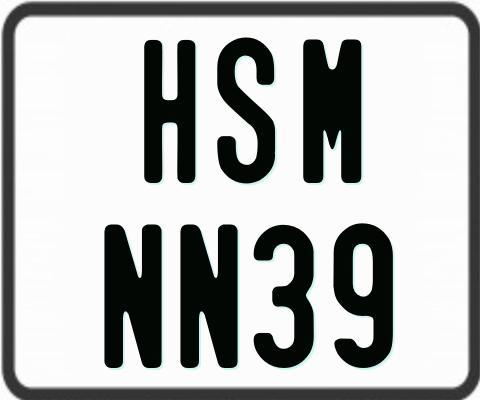3: (251, 224, 314, 371)
9: (331, 222, 394, 373)
H: (141, 37, 198, 185)
M: (303, 38, 363, 184)
N: (104, 222, 166, 371), (179, 222, 238, 371)
S: (217, 36, 277, 186)
